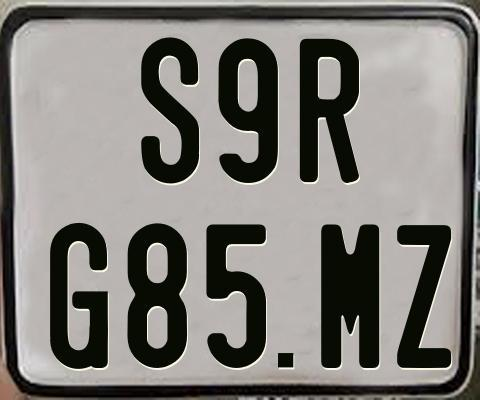5: (203, 223, 265, 373)
8: (125, 222, 190, 370)
9: (218, 38, 282, 188)
G: (48, 221, 106, 370)
M: (319, 223, 378, 371)
R: (300, 37, 364, 183)
S: (140, 34, 201, 183)
Z: (397, 222, 456, 371)
